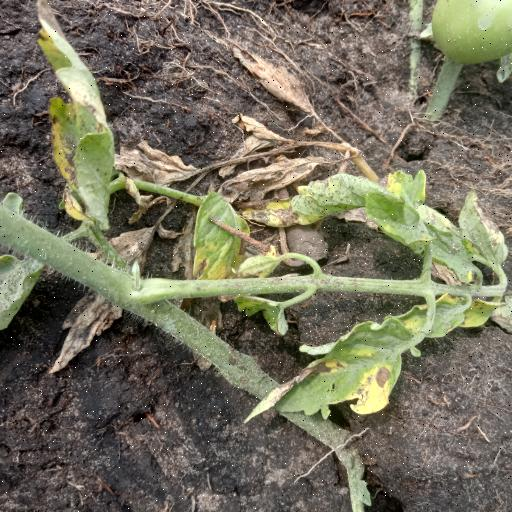Tomato_Brown_Spots: (242, 293, 493, 429), (24, 0, 124, 229)
